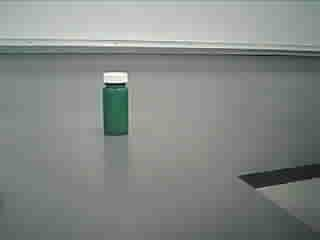Bottle C: (96, 69, 141, 147)
